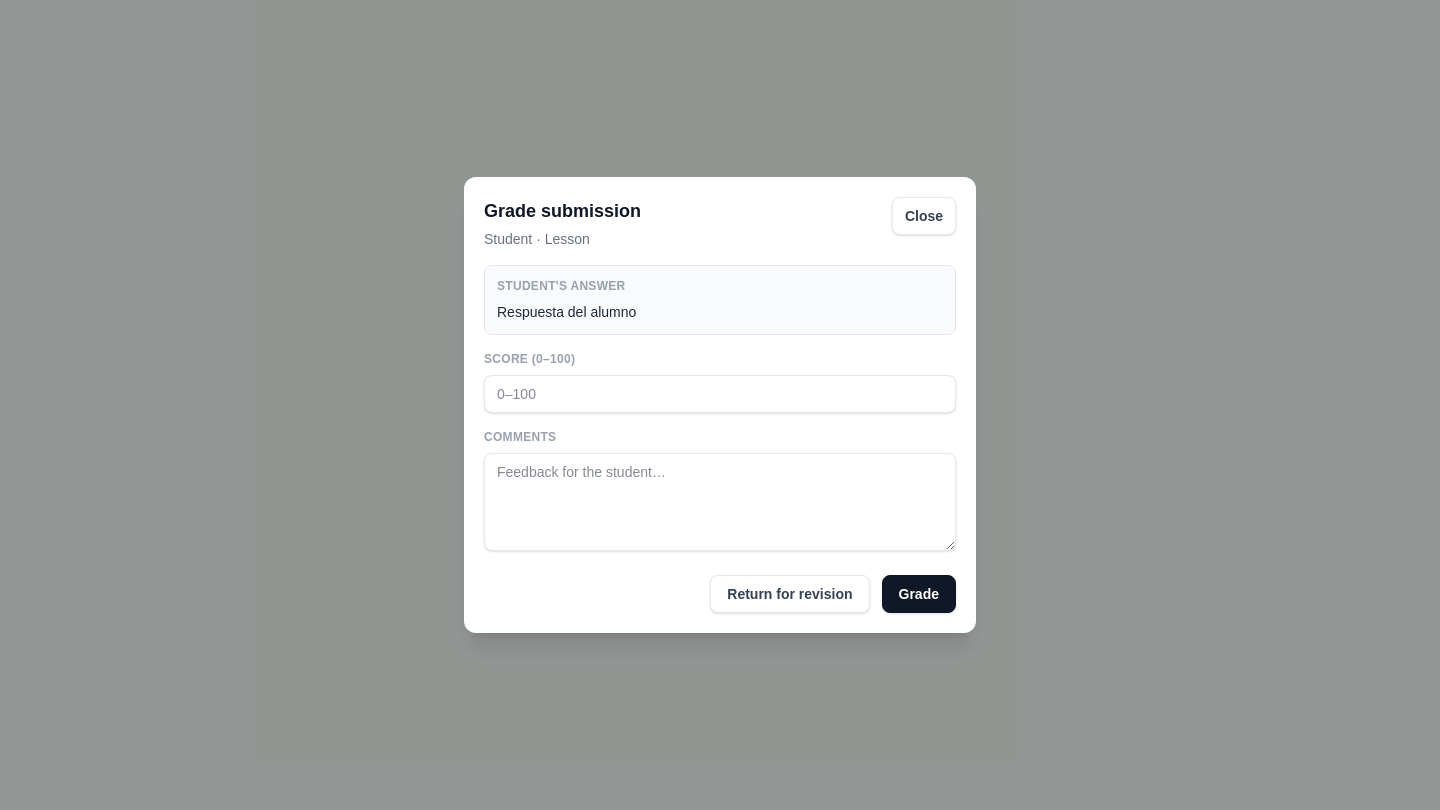
Test case: GradeSubmissionModal - campo de nota › descarta las letras y conserva solo los dígitos escritos
In the field labelled "Score (0–100)": [720, 394] box [484,375,956,413], type "abc9de5fg"
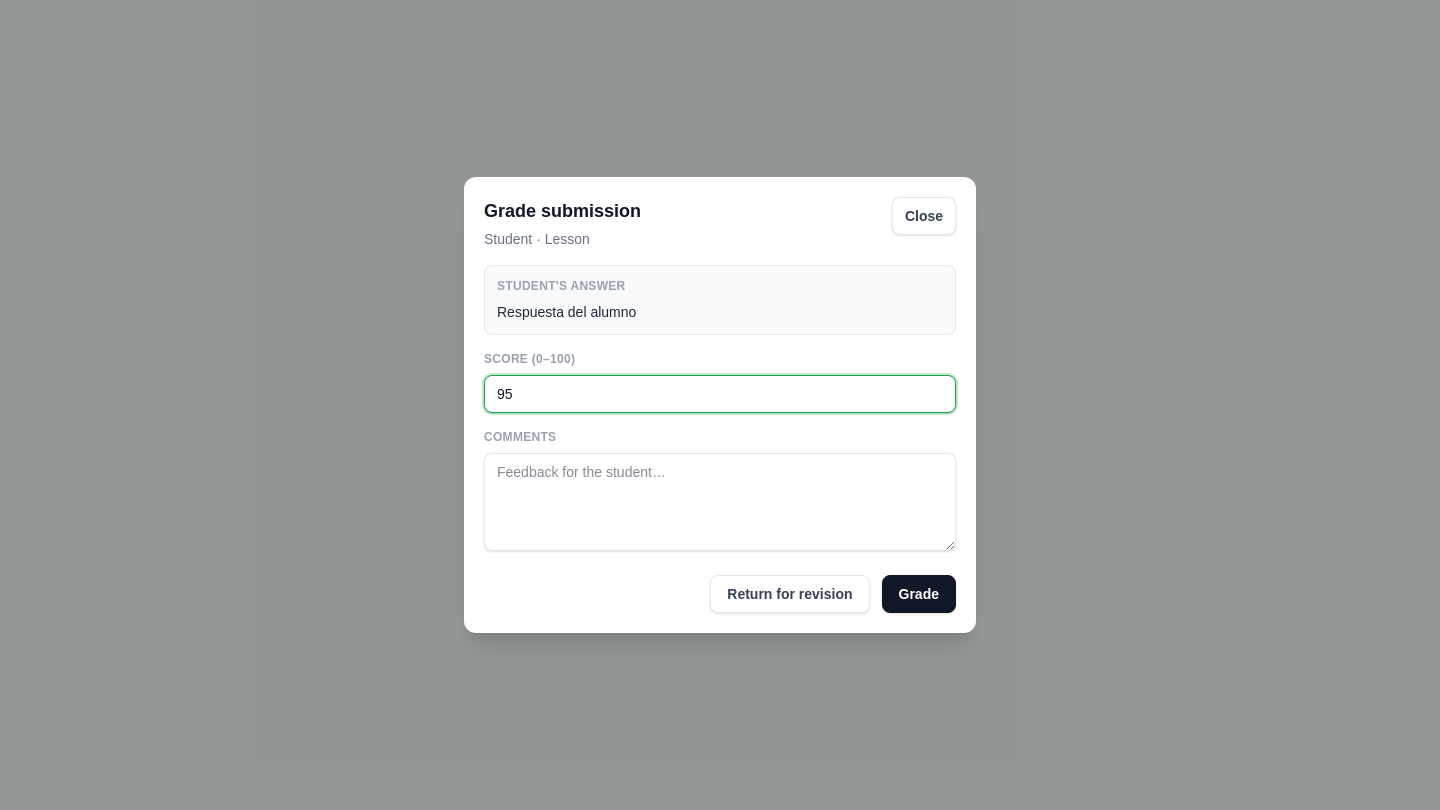
Expected: the field labelled "Score (0–100)" holds "95", [484,375,956,413]
